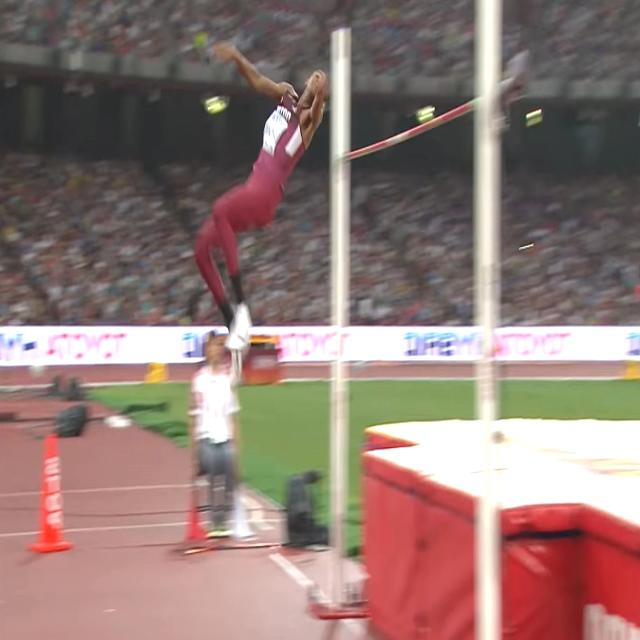jump: (193, 44, 326, 389)
